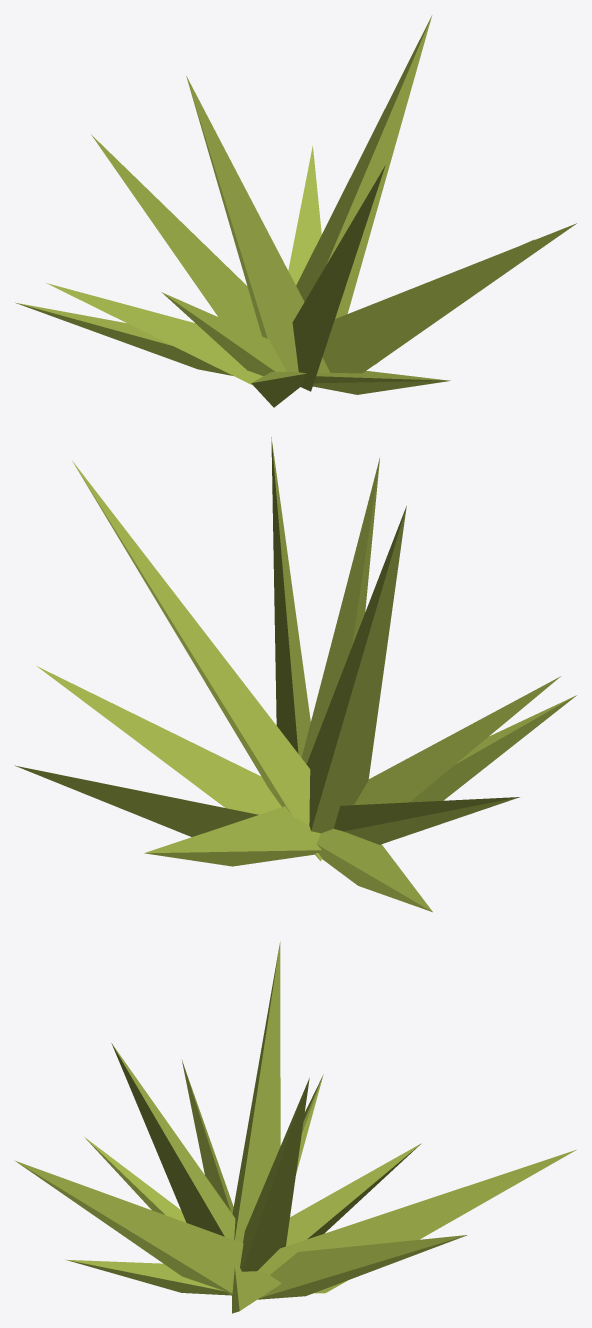
File: west_tree04.FBX
The picture shows the model from 3 angles, top to bottom: view 1: azimuth 30°, elevation 25°; view 2: azimuth 150°, elevation 25°; view 3: azimuth 270°, elevation 25°; orthographic projection. The views are drawn at different scales.
Parts seen in each view (by area): view 1: west_tree04; view 2: west_tree04; view 3: west_tree04.
Part boxes in pixels (<box>): west_tree04: <box>15,15,576,407</box>; west_tree04: <box>15,437,576,912</box>; west_tree04: <box>14,941,576,1313</box>.
Bounding box in the file's own units: 536 × 359 × 618.
